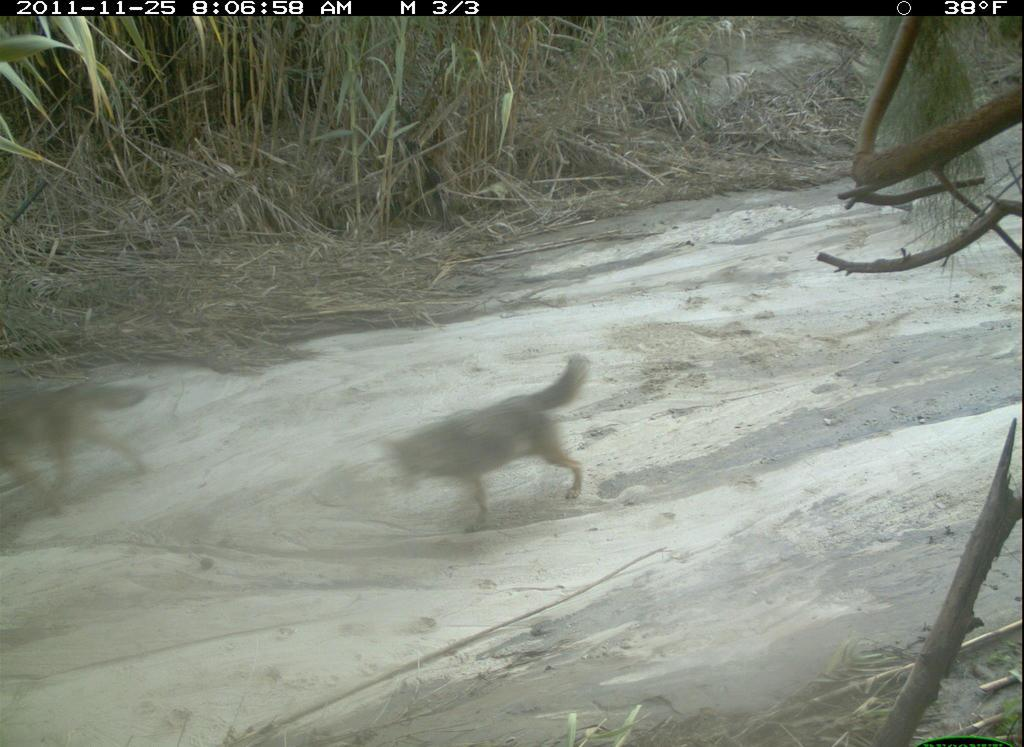coyote: (367, 350, 601, 537), (4, 370, 161, 525)
